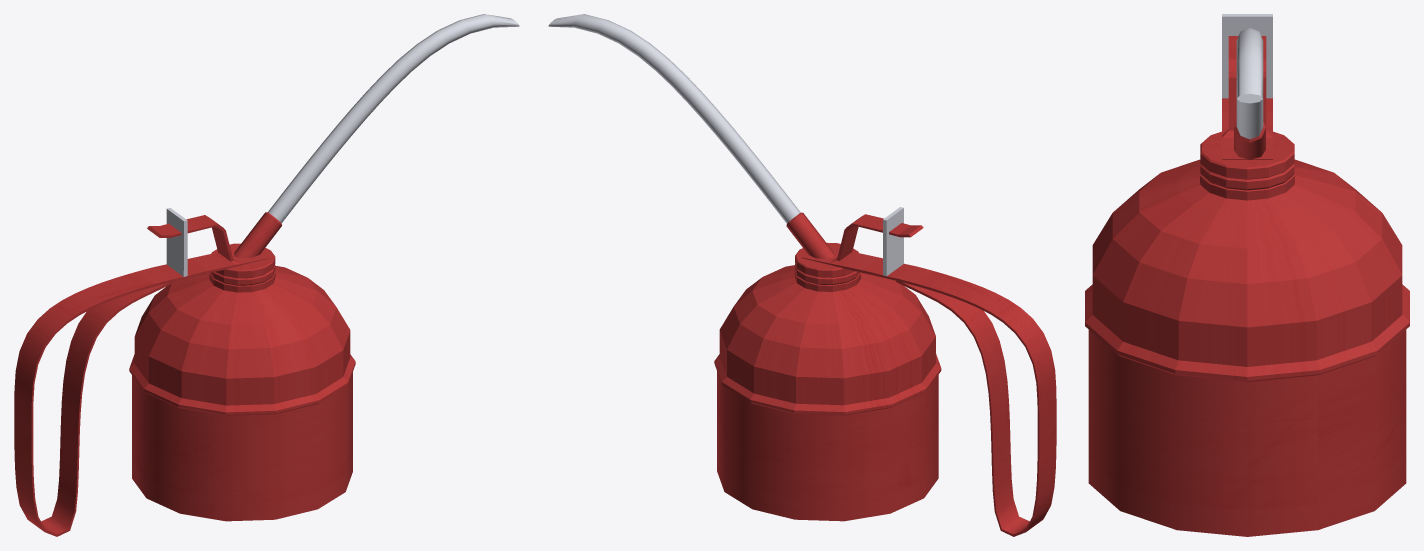
Rendered from OilCan.fbx.
The picture shows the model from 3 angles, left to right: view 1: azimuth 30°, elevation 25°; view 2: azimuth 150°, elevation 25°; view 3: azimuth 270°, elevation 25°; orthographic projection. The views are drawn at different scales.
Visible parts, largest first — view 1: pCylinder2; view 2: pCylinder2; view 3: pCylinder2.
Part boxes in pixels (x1,y1,x2,y2): pCylinder2: [14, 14, 519, 536]; pCylinder2: [548, 14, 1056, 536]; pCylinder2: [1085, 14, 1409, 536].
Size of the model in its own units: 396 by 313 by 154.
